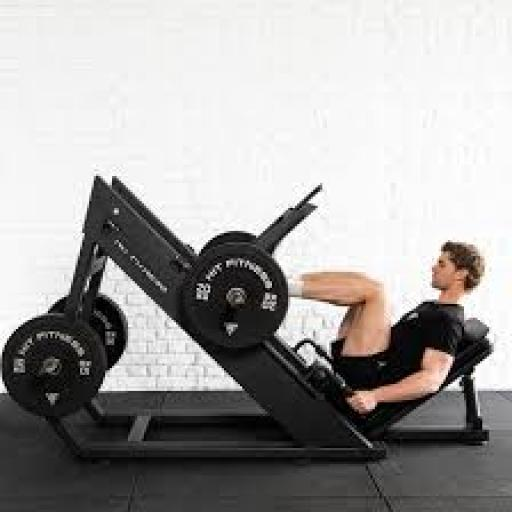Leg Press: (19, 168, 499, 442)
